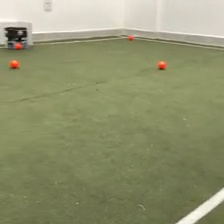ball: (8, 57, 20, 69), (157, 58, 167, 69), (14, 41, 23, 49), (127, 33, 135, 40)
goal: (1, 21, 34, 47)
robot: (2, 25, 29, 50)
